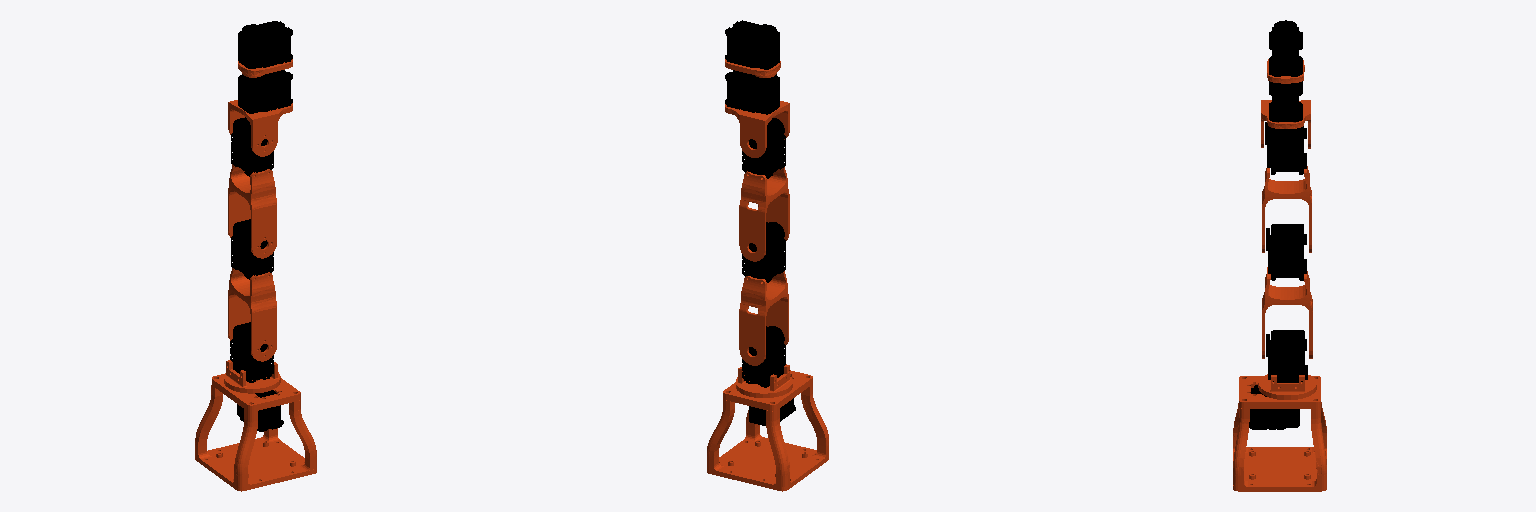
URDF robot description (armbot):
<robot name="armbot">
  <material name="black">
    <color rgba="0 0 0 1" />
  </material>
  <material name="brown">
    <color rgba="0.82 0.31 0.12 1" />
  </material>

  <link name="base_turn_table_basement">
    <visual>
      <origin rpy="0 0 0" xyz="0 0 0.031" />
      <material name="brown" />
      <geometry>
        <mesh filename="package://armbot_description/meshes/base_turn_table_basement.stl" />
      </geometry>
    </visual>
  </link>

  <link name="base_turn_table_top">
    <visual>
      <origin rpy="0 0 0" xyz="0 0 0" />
      <material name="brown" />
      <geometry>
        <mesh filename="package://armbot_description/meshes/base_turn_table_top.stl" />
      </geometry>
    </visual>
  </link>

  <link name="base_turn_table">
    <visual>
      <origin rpy="0 0 0" xyz="0 0 0" />
      <material name="brown" />
      <geometry>
        <mesh filename="package://armbot_description/meshes/base_turn_table_upd.stl" />
      </geometry>
    </visual>
  </link>

  <link name="arm1">
    <visual>
      <origin rpy="-1.570796327 -1.570796327 3.1415926535" xyz="-0.047 0 0" />
      <material name="brown" />
      <geometry>
        <mesh filename="package://armbot_description/meshes/arm.stl" />
      </geometry>
    </visual>
  </link>

  <link name="arm2">
    <visual>
      <origin rpy="-1.570796327 -1.570796327 3.1415926535" xyz="-0.047 0 0" />
      <material name="brown" />
      <geometry>
        <mesh filename="package://armbot_description/meshes/arm.stl" />
      </geometry>
    </visual>
  </link>

  <link name="wrist">
    <visual>
      <origin rpy="3.1415926535 1.570796327 0" xyz="-0.017 -0.013 -0.005" />
      <material name="brown" />
      <geometry>
        <mesh filename="package://armbot_description/meshes/wrist_mirror.stl" />
      </geometry>
    </visual>
  </link>

  <link name="wrist_rotate">
    <visual>
      <origin rpy="3.1415926535 3.1415926535 1.570796327" xyz="0.01 0 0.0275" />
      <material name="brown" />
      <geometry>
        <mesh filename="package://armbot_description/meshes/wrist_rotate.stl" />
      </geometry>
    </visual>
  </link>


  <link name="motor1">
    <visual>
      <origin rpy="0 0 0" xyz="0 0 0" />
      <material name="black" />
      <geometry>
        <mesh filename="package://armbot_description/meshes/dynamixel_upd.stl" />
      </geometry>
    </visual>
  </link>

  <link name="motor2">
    <visual>
      <origin rpy="3.1415926535 0 0" xyz="0 0 0" />
      <material name="black" />
      <geometry>
        <mesh filename="package://armbot_description/meshes/dynamixel_upd.stl" />
      </geometry>
    </visual>
  </link>

  <link name="motor3">
    <visual>
      <origin rpy="3.1415926535 0 0" xyz="0 0 0" />
      <material name="black" />
      <geometry>
        <mesh filename="package://armbot_description/meshes/dynamixel_upd.stl" />
      </geometry>
    </visual>
  </link>

  <link name="motor4">
    <visual>
      <origin rpy="3.1415926535 0 0" xyz="0 0 0" />
      <material name="black" />
      <geometry>
        <mesh filename="package://armbot_description/meshes/dynamixel_upd.stl" />
      </geometry>
    </visual>
  </link>

  <link name="motor5">
    <visual>
      <origin rpy="0 0 0" xyz="0 0 0" />
      <material name="black" />
      <geometry>
        <mesh filename="package://armbot_description/meshes/dynamixel_upd.stl" />
      </geometry>
    </visual>
  </link>

  <link name="motor6">
    <visual>
      <origin rpy="0 0 0" xyz="0 0 0" />
      <material name="black" />
      <geometry>
        <mesh filename="package://armbot_description/meshes/dynamixel_upd.stl" />
      </geometry>
    </visual>
  </link>

  <joint name="basement_to_base_top" type="fixed">
    <parent link="base_turn_table_basement" />
    <child link="base_turn_table_top" />
    <origin rpy="0 0 0" xyz="0 -0.0077 0.083" />
  </joint>

  <joint name="base_top_to_motor1" type="fixed">
    <parent link="base_turn_table_top" />
    <child link="motor1" />
    <origin rpy="0 0 -1.570796327" xyz="0 0.015 -0.016" />
  </joint>

  <joint name="motor1_to_base_turn_table" type="continuous">
    <parent link="motor1" />
    <child link="base_turn_table" />
    <origin rpy="0 0 0" xyz="0 0 0.028" />
    <axis xyz="0 0 1" />
  </joint>

  <joint name="base_turn_table_to_motor2" type="fixed">
    <parent link="base_turn_table" />
    <child link="motor2" />
    <origin rpy="0 1.570796327 3.1415926535" xyz="0 0 0.038" />
  </joint>

  <joint name="motor2_to_arm1" type="continuous">
    <parent link="motor2" />
    <child link="arm1" />
    <origin rpy="0 0 0" xyz="0 0 0.003" />
    <axis xyz="0 0 1" />
  </joint>

  <joint name="arm1_to_motor3" type="fixed">
    <parent link="arm1" />
    <child link="motor3" />
    <origin rpy="0 0 0" xyz="-0.1116 0 -0.0032" />
  </joint>

  <joint name="motor3_to_arm2" type="continuous">
    <parent link="motor3" />
    <child link="arm2" />
    <origin rpy="0 0 0" xyz="0 0 0.003" />
    <axis xyz="0 0 1" />
  </joint>

  <joint name="arm2_to_motor4" type="fixed">
    <parent link="arm2" />
    <child link="motor4" />
    <origin rpy="0 0 0" xyz="-0.1116 0 -0.0032" />
  </joint>

  <joint name="motor4_to_wrist" type="continuous">
    <parent link="motor4" />
    <child link="wrist" />
    <origin rpy="0 0 0" xyz="0 0 0" />
    <axis xyz="0 0 1" />
  </joint>

  <joint name="wrist_to_motor5" type="fixed">
    <parent link="wrist" />
    <child link="motor5" />
    <origin rpy="1.570796327 0 -1.570796327" xyz="-0.045 0 -0.0015" />
  </joint>

  <joint name="motor5_to_wrist_rotate" type="continuous">
    <parent link="motor5" />
    <child link="wrist_rotate" />
    <origin rpy="0 0 0" xyz="0 0 0" />
    <axis xyz="0 0 1" />
  </joint>

  <joint name="wrist_rotate_to_motor6" type="fixed">
    <parent link="wrist_rotate" />
    <child link="motor6" />
    <origin rpy="0 0 0" xyz="0 0 0.048" />
  </joint>
</robot>

--- What the picture shows (computed from the rendered views, not written in the file) ---
The picture shows the robot from 3 angles, left to right: view 1: azimuth 30°, elevation 25°; view 2: azimuth 150°, elevation 25°; view 3: azimuth 270°, elevation 25°; orthographic projection.
Model armbot with 13 links and 12 joints (5 continuous, 7 fixed), rooted at base_turn_table_basement, posed all joints at 0.
Links seen in each view (by area): view 1: base_turn_table_basement, arm2, arm1, motor6, motor5, wrist, motor2, motor3, motor4, base_turn_table_top, base_turn_table, motor1; view 2: base_turn_table_basement, arm2, arm1, motor6, motor5, wrist, motor3, motor2, motor4, base_turn_table_top, base_turn_table; view 3: base_turn_table_basement, motor3, motor2, motor4, motor6, arm1, base_turn_table_top, arm2, motor5, motor1, base_turn_table, wrist.
Link boxes in pixels (box(x1,y1,x2,y2)): base_turn_table_basement: box(195, 385, 316, 491); arm2: box(228, 164, 276, 258); arm1: box(228, 268, 276, 361); motor6: box(238, 21, 292, 68); motor5: box(238, 70, 292, 113); wrist: box(228, 100, 292, 156); motor2: box(230, 322, 273, 382); motor3: box(231, 219, 273, 279); motor4: box(231, 117, 273, 176); base_turn_table_top: box(212, 374, 300, 411); base_turn_table: box(224, 360, 280, 393); motor1: box(237, 390, 283, 431); base_turn_table_basement: box(707, 384, 828, 491); arm2: box(739, 167, 789, 261); arm1: box(739, 271, 788, 365); motor6: box(725, 20, 779, 69); motor5: box(725, 70, 779, 114); wrist: box(725, 101, 789, 157); motor3: box(742, 222, 785, 282); motor2: box(742, 326, 785, 387); motor4: box(742, 118, 785, 178); base_turn_table_top: box(723, 370, 812, 410); base_turn_table: box(736, 364, 792, 397); base_turn_table_basement: box(1233, 402, 1326, 491); motor3: box(1266, 224, 1306, 280); motor2: box(1266, 330, 1307, 382); motor4: box(1265, 122, 1306, 174); motor6: box(1269, 20, 1302, 76); arm1: box(1262, 267, 1312, 358); base_turn_table_top: box(1239, 376, 1320, 408); arm2: box(1262, 166, 1311, 252); motor5: box(1269, 81, 1302, 121); motor1: box(1249, 385, 1299, 429); base_turn_table: box(1258, 374, 1316, 399); wrist: box(1261, 100, 1310, 148).
Bounding box of the posed robot: 0.0904 × 0.0901 × 0.4705 m (x, y, z).
13 mesh visuals loaded from 7 distinct referenced files (7 binary STL).